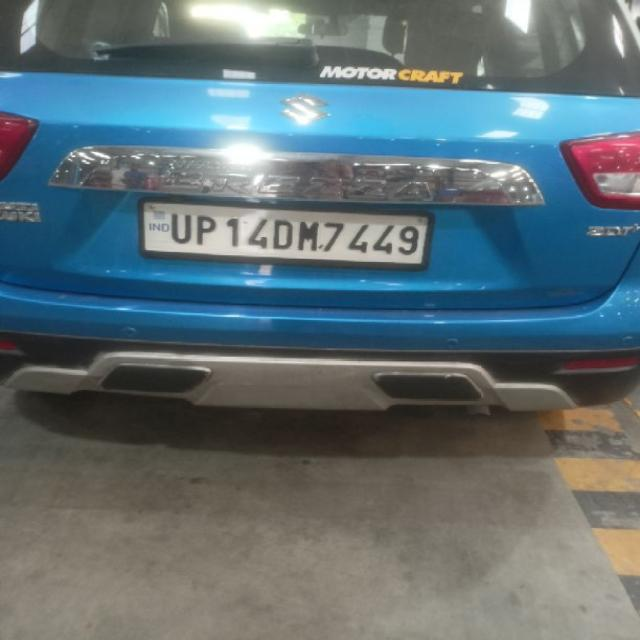license_plate: (137, 197, 434, 270)
